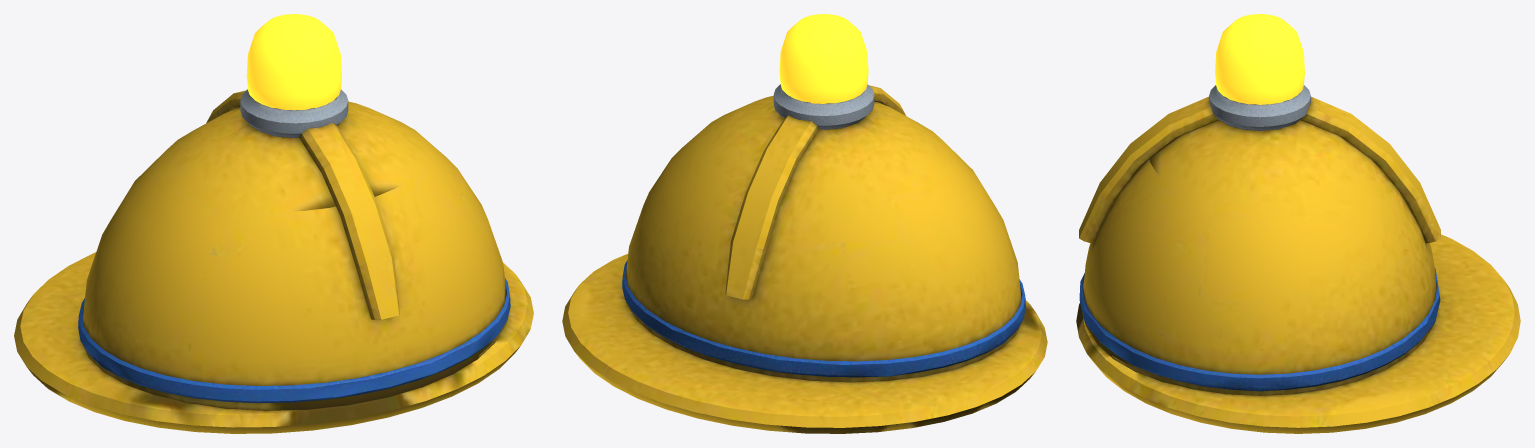
3 views of the same model, side by side, from view 1: azimuth 30°, elevation 25°; view 2: azimuth 150°, elevation 25°; view 3: azimuth 270°, elevation 25° (orthographic). The views are drawn at different scales.
Visible parts, largest first — view 1: Hardhat_yellow_plastic, Overall_blue_band, glow_Amber_beacon_glass, Beacon_steel_base; view 2: Hardhat_yellow_plastic, Overall_blue_band, glow_Amber_beacon_glass, Beacon_steel_base; view 3: Hardhat_yellow_plastic, glow_Amber_beacon_glass, Overall_blue_band, Beacon_steel_base.
Part boxes in pixels (x1,y1,x2,y2): Hardhat_yellow_plastic: (14, 90, 533, 433); Overall_blue_band: (78, 278, 510, 403); glow_Amber_beacon_glass: (246, 14, 341, 110); Beacon_steel_base: (240, 89, 348, 137); Hardhat_yellow_plastic: (562, 85, 1047, 433); Overall_blue_band: (622, 260, 1025, 377); glow_Amber_beacon_glass: (779, 14, 868, 103); Beacon_steel_base: (773, 84, 874, 129); Hardhat_yellow_plastic: (1076, 96, 1520, 433); glow_Amber_beacon_glass: (1215, 14, 1304, 104); Overall_blue_band: (1079, 268, 1440, 391); Beacon_steel_base: (1209, 85, 1310, 130).
Bounding box in the file's own units: 0.98 × 0.6793 × 0.8622.
4 materials, 3 textured.
